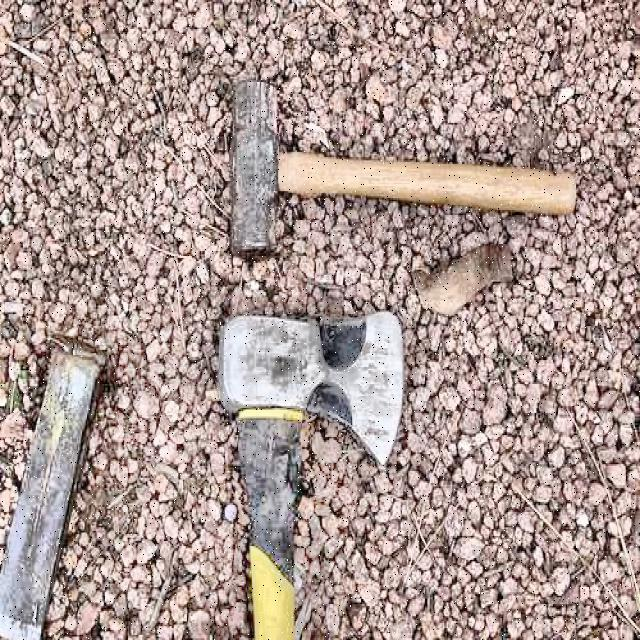hammer: (231, 77, 581, 257)
